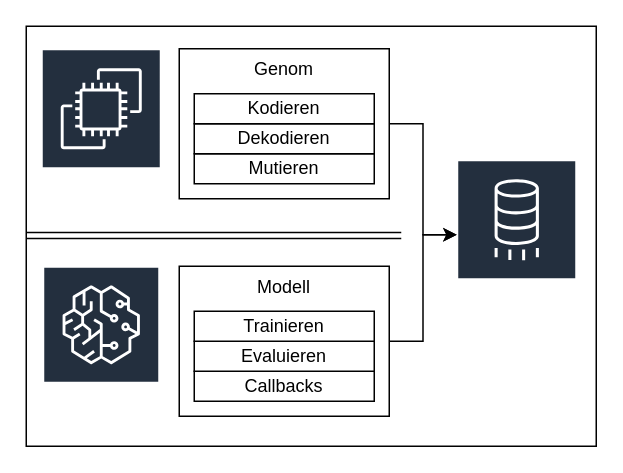
The diagram is 623 pixels wide and 473 high, and some of its shapes have lost their labels. The shapes that lost their labels are listed below. From the top down, each one's centre as x and y in pixels, then its label:
At point 100,123: "CPU".
At point 516,234: "Storage".
At point 100,340: "GPU".
